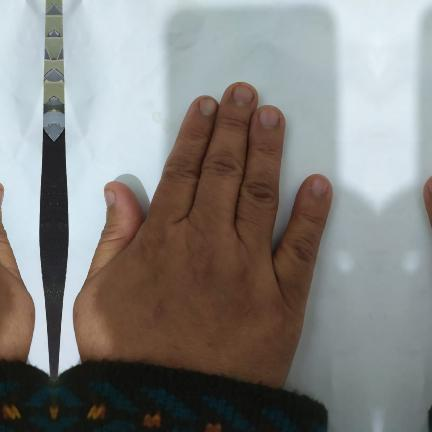Nail: (259, 105, 281, 128), (233, 84, 253, 106), (199, 97, 219, 115), (311, 177, 329, 195), (104, 191, 115, 206), (427, 178, 432, 194), (0, 191, 4, 206)
